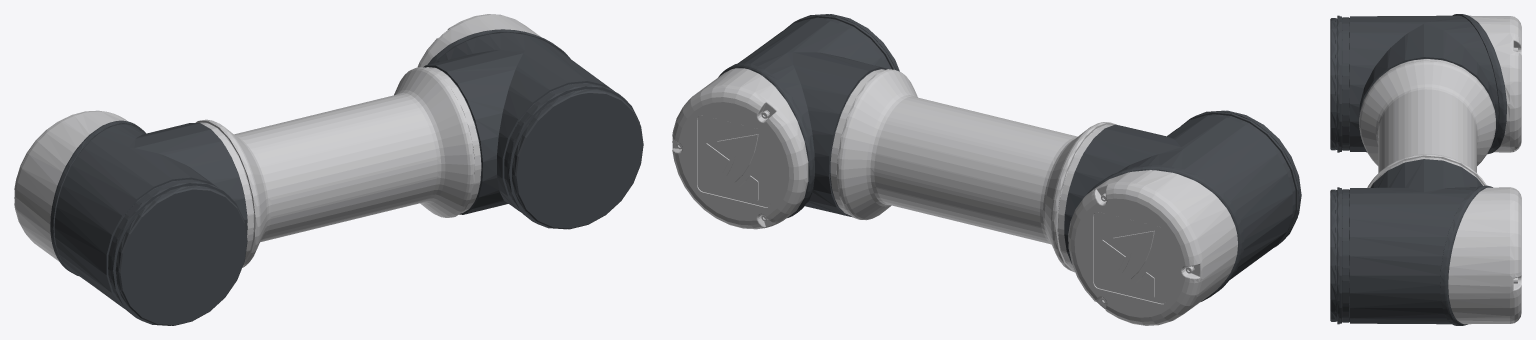
Rendered from ARM3.obj.
3 views of the same model, side by side, from view 1: azimuth 30°, elevation 25°; view 2: azimuth 150°, elevation 25°; view 3: azimuth 270°, elevation 25° (orthographic). The views are drawn at different scales.
Visible parts, largest first — view 1: GBT-C7A-J2.001; view 2: GBT-C7A-J2.001; view 3: GBT-C7A-J2.001.
Part boxes in pixels (x1,y1,x2,y2): GBT-C7A-J2.001: (14, 14, 643, 325); GBT-C7A-J2.001: (672, 14, 1301, 325); GBT-C7A-J2.001: (1330, 14, 1521, 325).
Bounding box in the file's own units: 471 × 121 × 165.
Materials: 1 (1 with a texture image).
